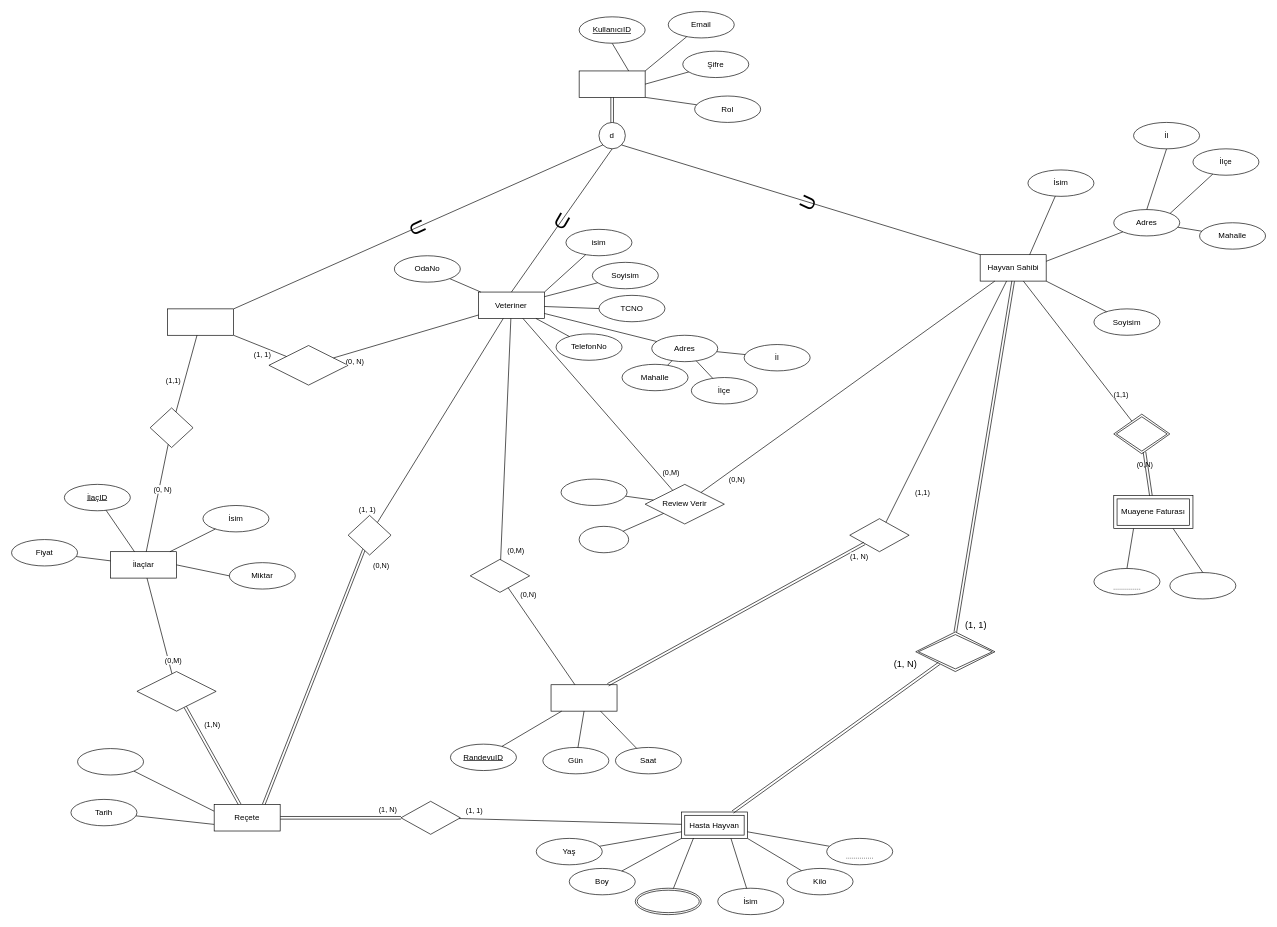
Some shapes in this 1277 by 927 pixel diagram are drawn without their labels. The box of each missing label's shape, as (x1, y1, x2, y2) in pixels:
Admin: (167, 308, 234, 335)
Alır: (849, 518, 909, 552)
Açıklama: (578, 526, 629, 553)
Ekler: (268, 345, 348, 385)
FaturaID: (1093, 568, 1160, 595)
HastaID: (826, 838, 893, 865)
İlaç Alır: (149, 407, 193, 448)
İçerir: (136, 671, 216, 711)
Kullanıcı: (578, 70, 645, 97)
Puan: (560, 478, 627, 505)
Randevu: (550, 684, 617, 711)
Renk: (635, 888, 701, 915)
ReçeteID: (77, 748, 144, 775)
Sahip: (915, 631, 995, 672)
Var: (400, 801, 460, 834)
Verir: (470, 559, 530, 592)
Yazar: (347, 515, 391, 555)
Öder: (1113, 413, 1170, 454)
Ücret: (1169, 572, 1236, 599)
